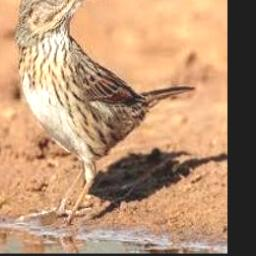Sparrow: (16, 0, 196, 223)
